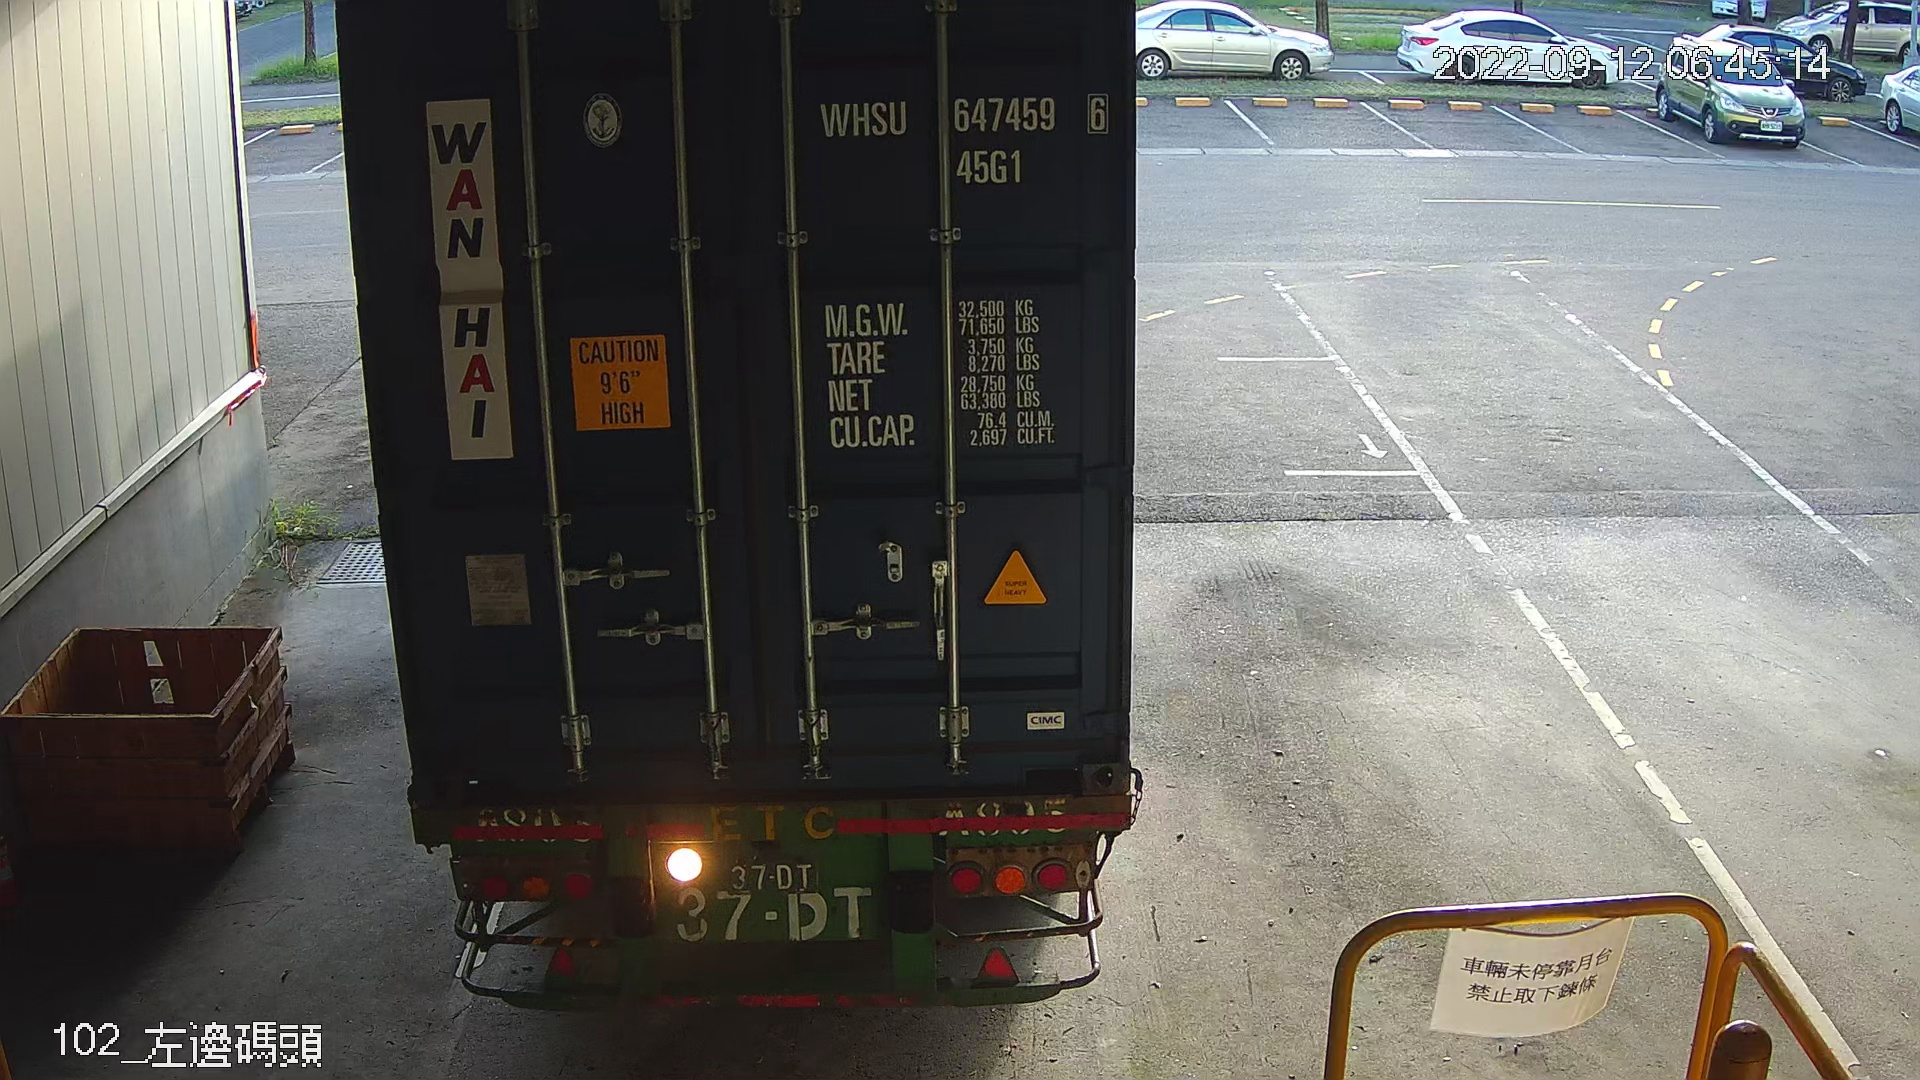container: (808, 80, 1117, 195)
